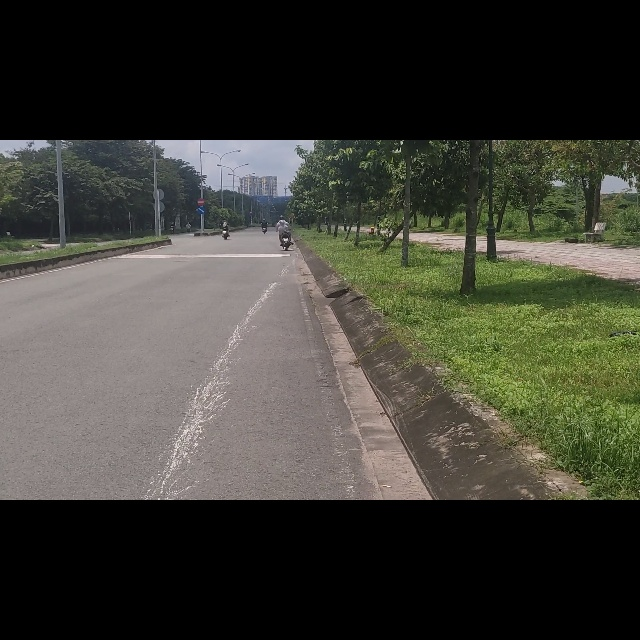bien_cam: (197, 119, 205, 132), (198, 103, 204, 116)
